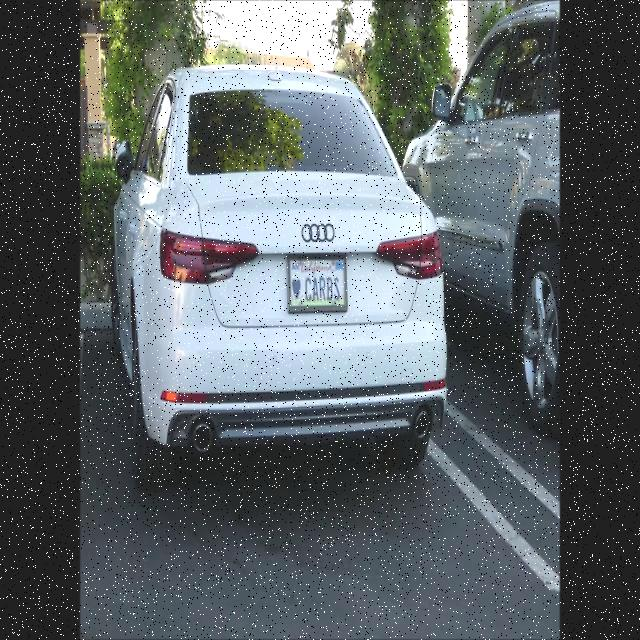licenseplate: (290, 253, 348, 310)
